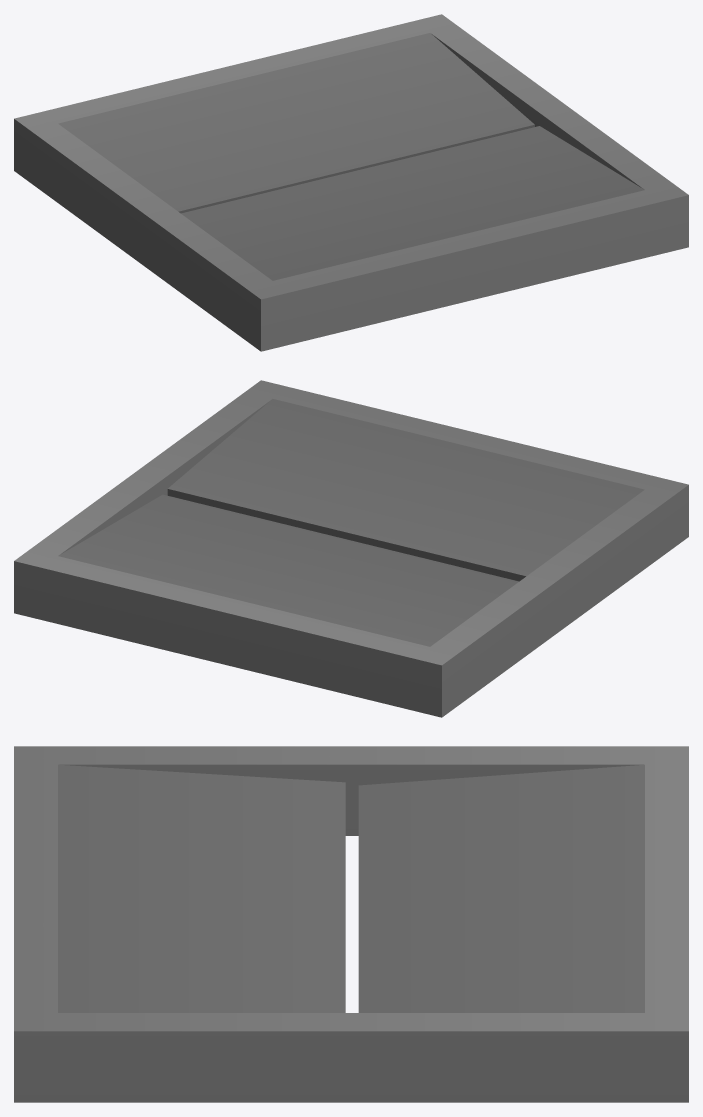
The model's file is Double_Door_Trap.fbx.
The picture shows the model from 3 angles, top to bottom: view 1: azimuth 30°, elevation 25°; view 2: azimuth 150°, elevation 25°; view 3: azimuth 270°, elevation 25°; orthographic projection. The views are drawn at different scales.
Parts seen in each view (by area): view 1: Double_Door_Trap, Door_1, Door_2; view 2: Double_Door_Trap, Door_2, Door_1; view 3: Double_Door_Trap, Door_2, Door_1.
Part boxes in pixels (x1,y1,x2,y2): Double_Door_Trap: (14, 14, 688, 351); Door_1: (58, 33, 534, 213); Door_2: (181, 126, 644, 280); Double_Door_Trap: (14, 380, 688, 717); Door_2: (167, 399, 644, 581); Door_1: (58, 494, 518, 646); Double_Door_Trap: (14, 746, 688, 1102); Door_2: (58, 764, 345, 1012); Door_1: (358, 764, 644, 1012).
Bounding box in the file's own units: 74.24 × 8.66 × 74.24.
Materials: 1 (1 with a texture image).
